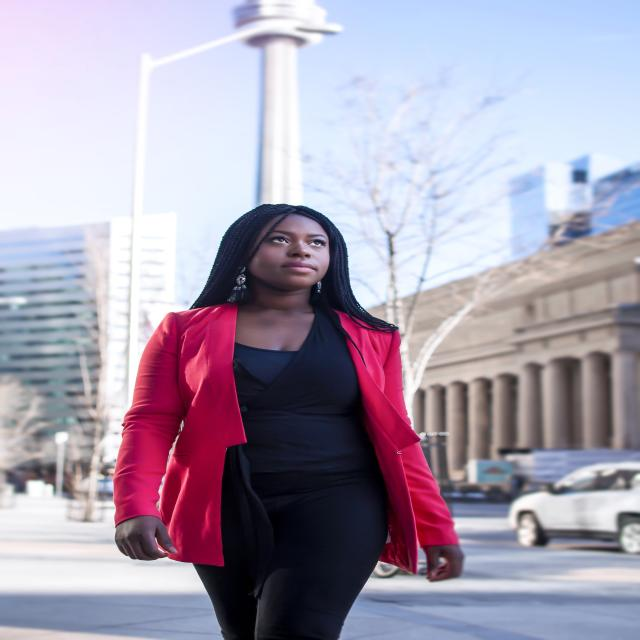adult: (116, 204, 455, 640)
